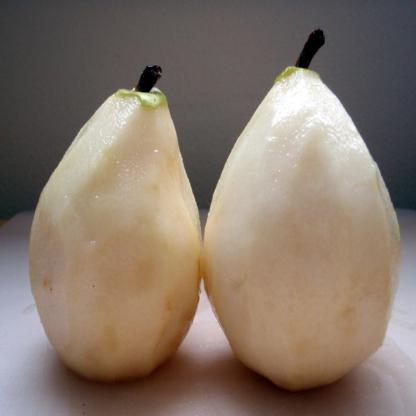Pear: (203, 68, 401, 390), (29, 87, 205, 381)
